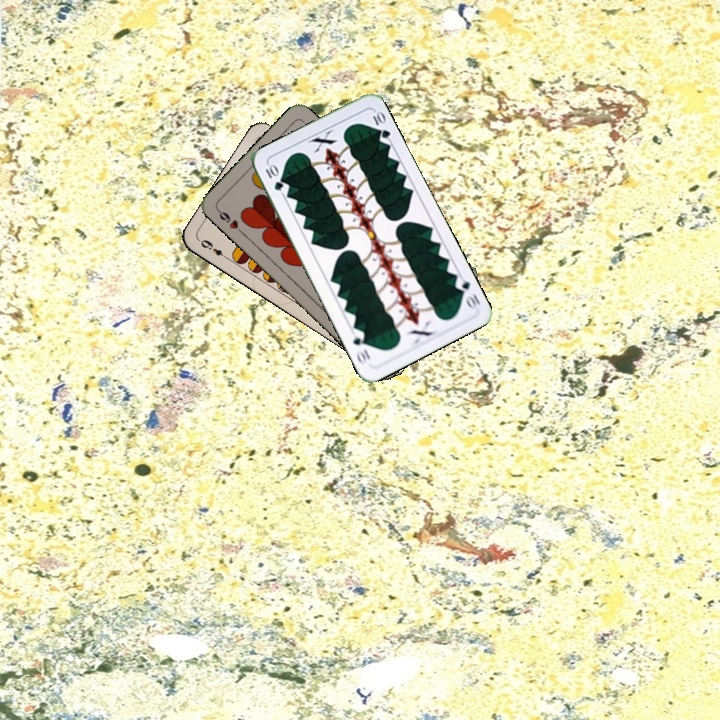E9: (196, 235, 231, 262)
G10: (451, 273, 483, 312), (261, 160, 286, 193)
H9: (213, 205, 246, 236)
